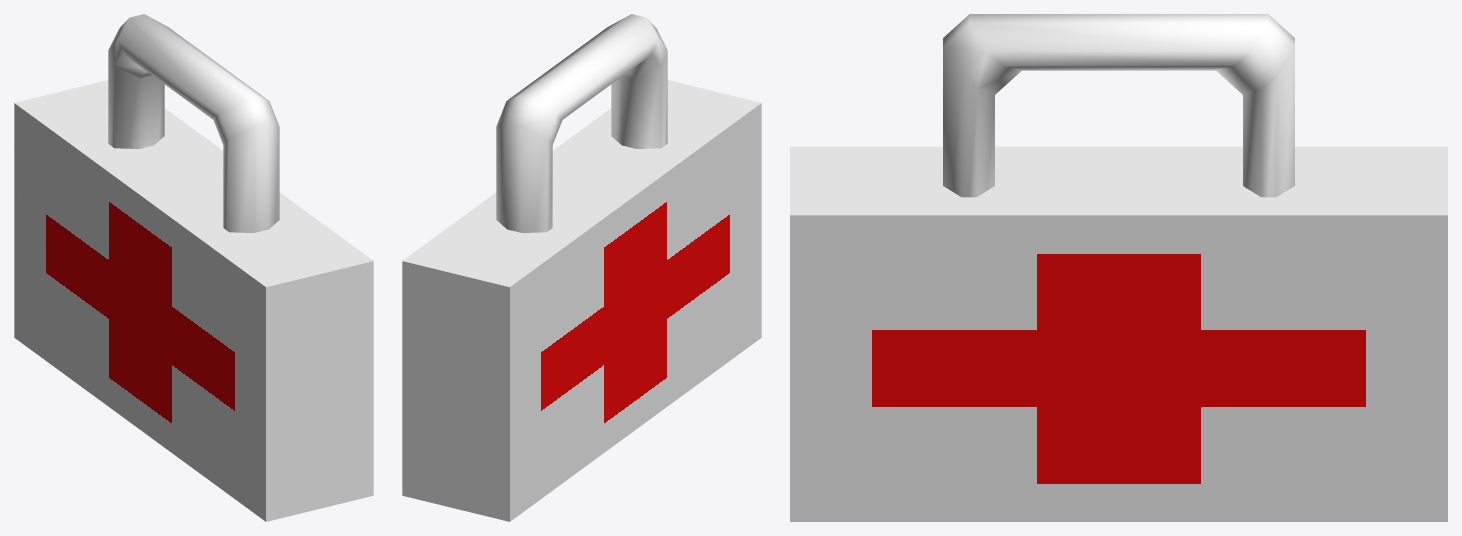
The model's file is medkit.gltf.
3 views of the same model, side by side, from view 1: azimuth 30°, elevation 25°; view 2: azimuth 150°, elevation 25°; view 3: azimuth 270°, elevation 25° (orthographic). The views are drawn at different scales.
Visible parts, largest first — view 1: Cube, Plane; view 2: Cube, Plane; view 3: Cube, Plane.
Part boxes in pixels (left/top/right/bottom): Cube: left=14, top=80, right=373, bottom=521; Plane: left=108, top=14, right=279, bottom=232; Cube: left=402, top=80, right=761, bottom=521; Plane: left=496, top=14, right=667, bottom=232; Cube: left=790, top=146, right=1447, bottom=521; Plane: left=943, top=14, right=1294, bottom=197.
Size of the model in its own units: 0.2733 by 0.8703 by 1.11.
Materials: 2 (1 with a texture image).
